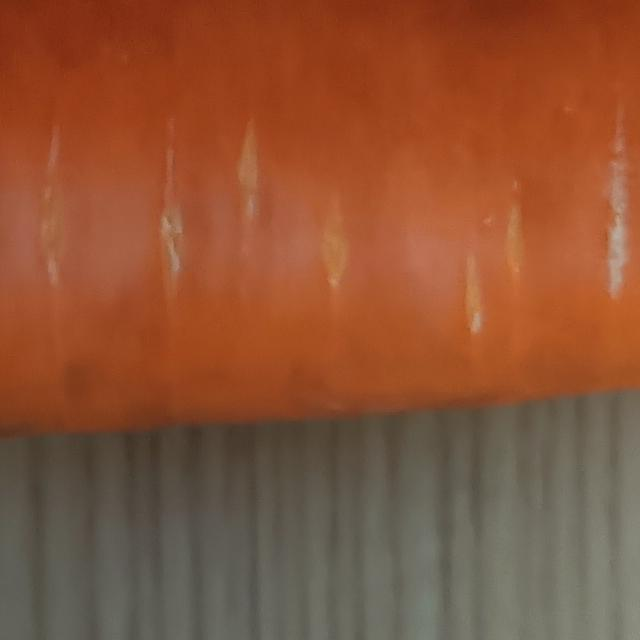carrot: (1, 1, 640, 468)
